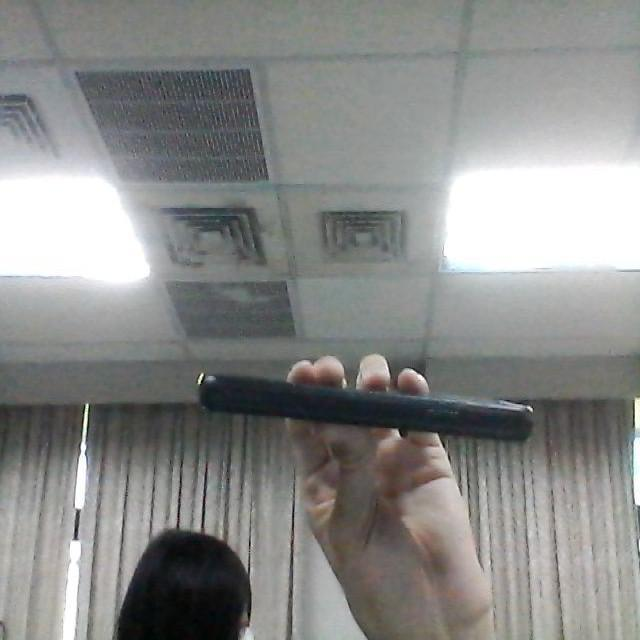Phone: (191, 367, 539, 449)
